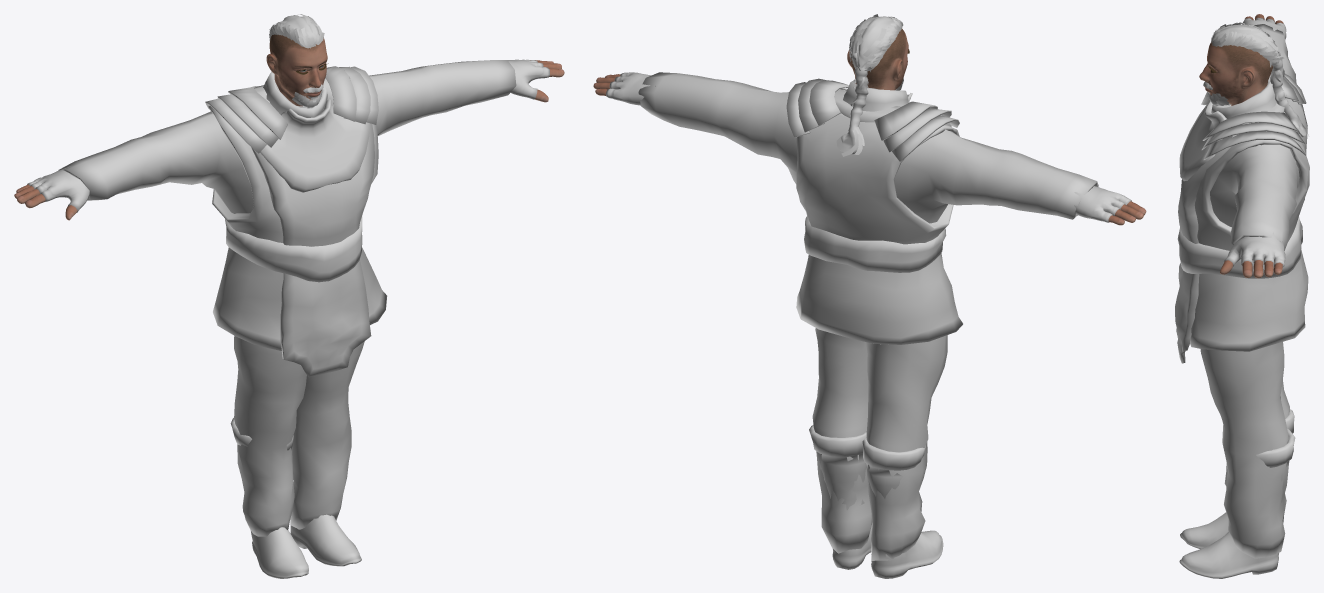
Rendered from Main Character.obj.
The picture shows the model from 3 angles, left to right: view 1: azimuth 30°, elevation 25°; view 2: azimuth 150°, elevation 25°; view 3: azimuth 270°, elevation 25°; orthographic projection.
Parts seen in each view (by area): view 1: Tops, Bottoms, Shoes, Body, Gloves, Hair; view 2: Tops, Bottoms, Shoes, Hair, Body, Gloves; view 3: Tops, Bottoms, Shoes, Body, Hair, Gloves, Beards.
Boxes of the visible parts, x1=… form: Tops: x1=58, y1=60, x2=516, y2=377; Bottoms: x1=234, y1=336, x2=364, y2=536; Shoes: x1=230, y1=418, x2=361, y2=578; Body: x1=14, y1=34, x2=564, y2=220; Gloves: x1=27, y1=59, x2=549, y2=212; Hair: x1=269, y1=14, x2=324, y2=48; Tops: x1=638, y1=72, x2=1098, y2=344; Bottoms: x1=812, y1=328, x2=947, y2=560; Shoes: x1=809, y1=425, x2=943, y2=578; Hair: x1=836, y1=14, x2=903, y2=156; Body: x1=593, y1=29, x2=1146, y2=225; Gloves: x1=606, y1=72, x2=1131, y2=222; Tops: x1=1175, y1=24, x2=1309, y2=363; Bottoms: x1=1200, y1=342, x2=1289, y2=558; Shoes: x1=1179, y1=409, x2=1295, y2=578; Body: x1=1199, y1=14, x2=1283, y2=278; Hair: x1=1211, y1=22, x2=1308, y2=137; Gloves: x1=1223, y1=17, x2=1286, y2=267; Beards: x1=1207, y1=91, x2=1231, y2=106.
Bounding box in the file's own units: 194 × 184 × 42.08.
